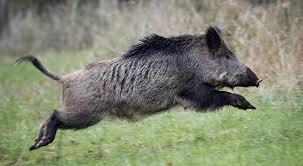Hog: (14, 23, 264, 154)
